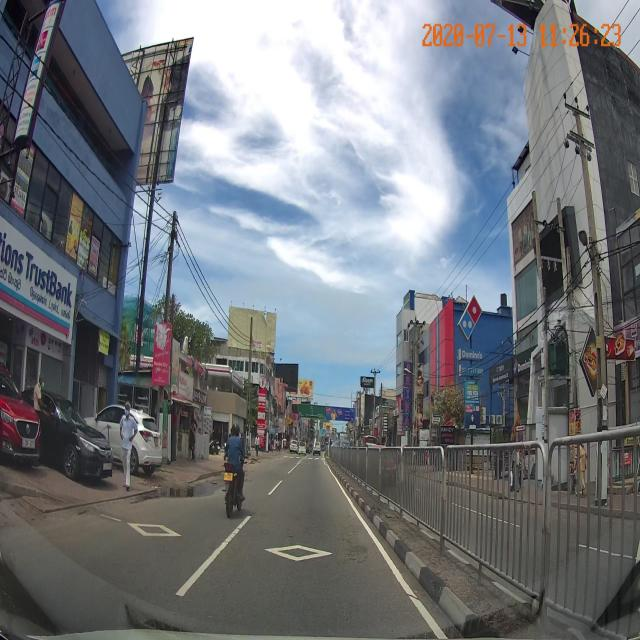diamond: (182, 529, 414, 589)
